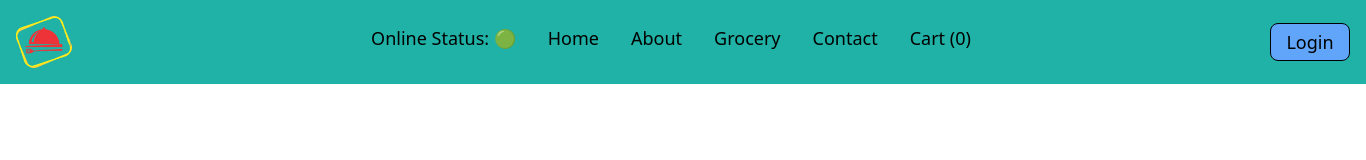
Test: Should render the logout button on click
The image size is (1366, 160).
Click the button "Login".
click(1310, 42)  # box x1=1270 y1=23 x2=1350 y2=61
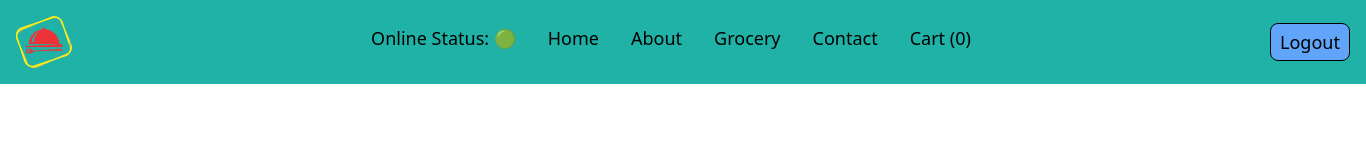
Now the button "Logout" is shown, box x1=1270 y1=23 x2=1350 y2=61
